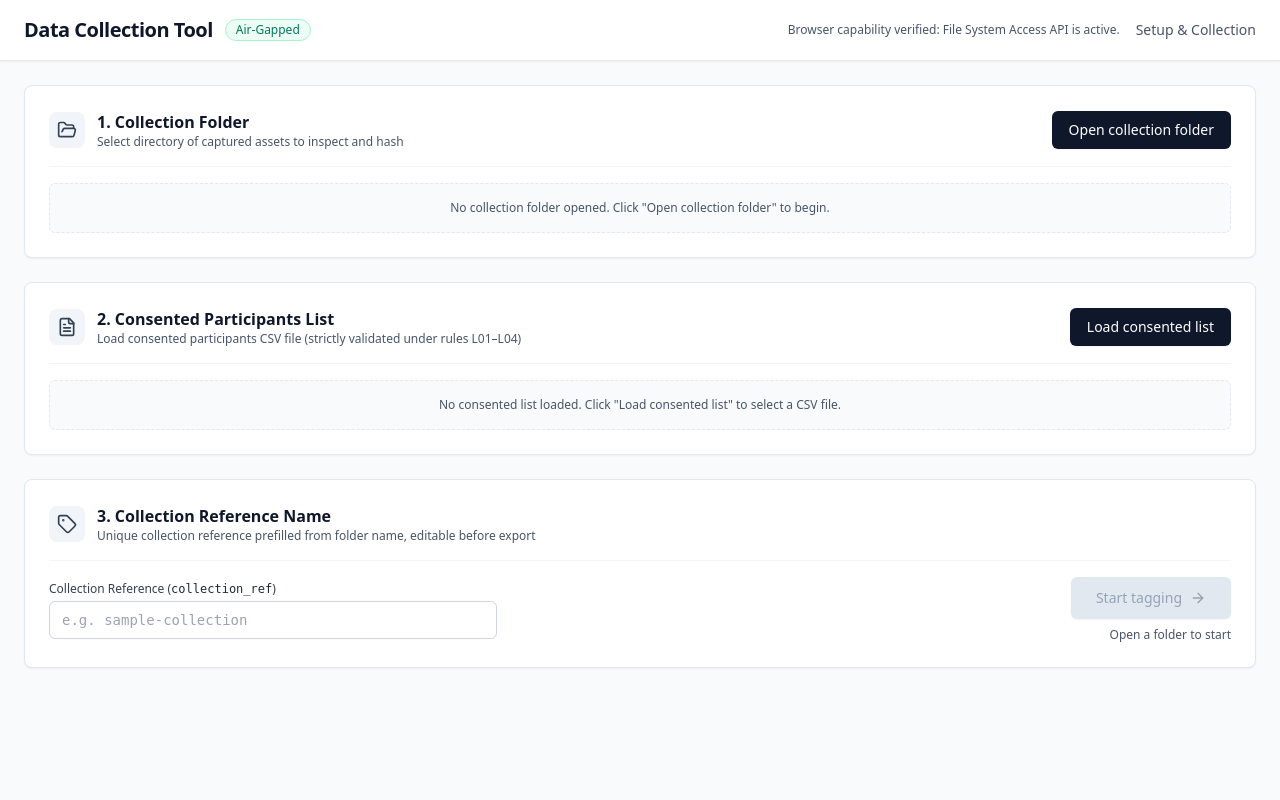
Test: Adversarial Stress Harness: Milestone 4 Start Screen & State Pipeline › Challenge 3: Deeply nested folder structures with forward slashes › 3.2: Custom extension override at collection root (dct-types.json) applies to nested files
The image size is (1280, 800).
Click the button with test id "open-folder-button" at (1141, 130), box [1052,111,1231,149]
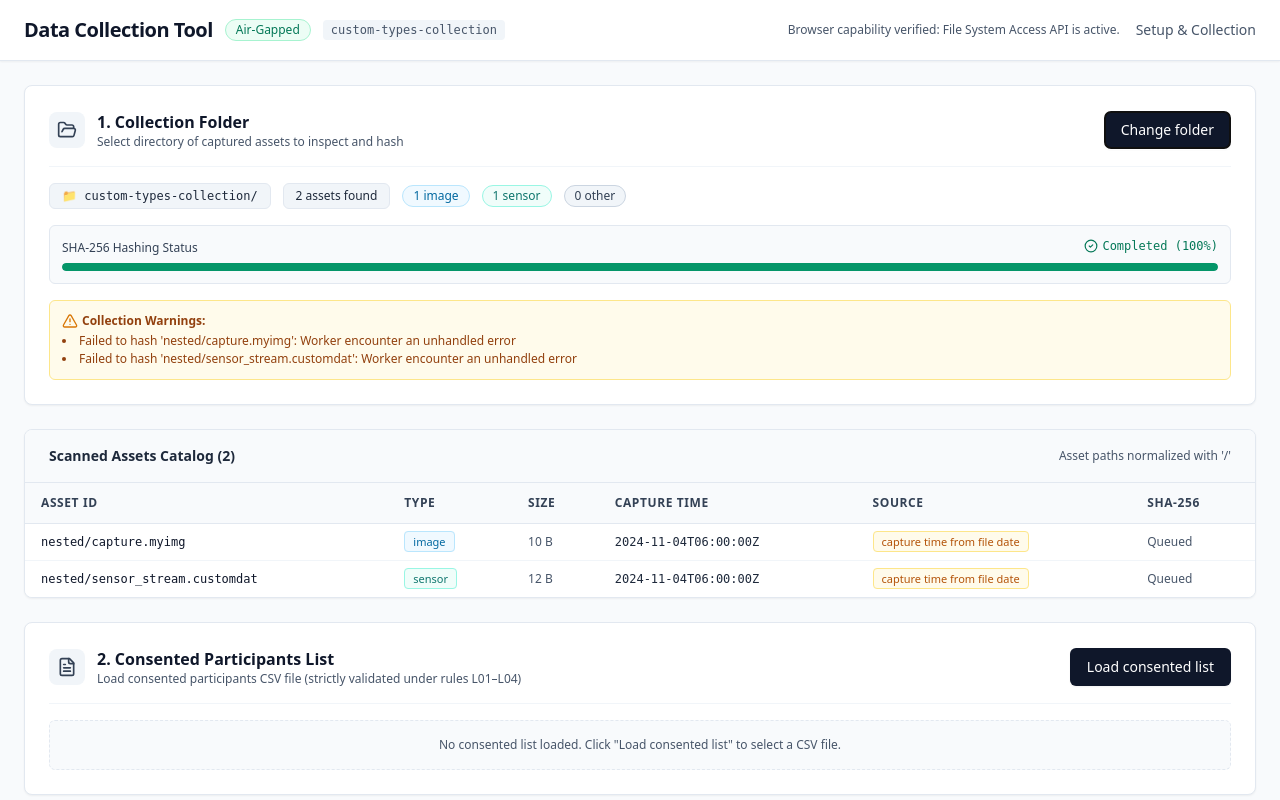
expect the text with test id "folder-name" shows "custom-types-collection": met, box [84,189,250,203]
expect the text with test id "asset-count-badge" reads "2 assets found": met, box [283,183,390,209]
expect the text with test id "type-pill-sensor" reads "1 sensor": met, box [482,185,552,207]
